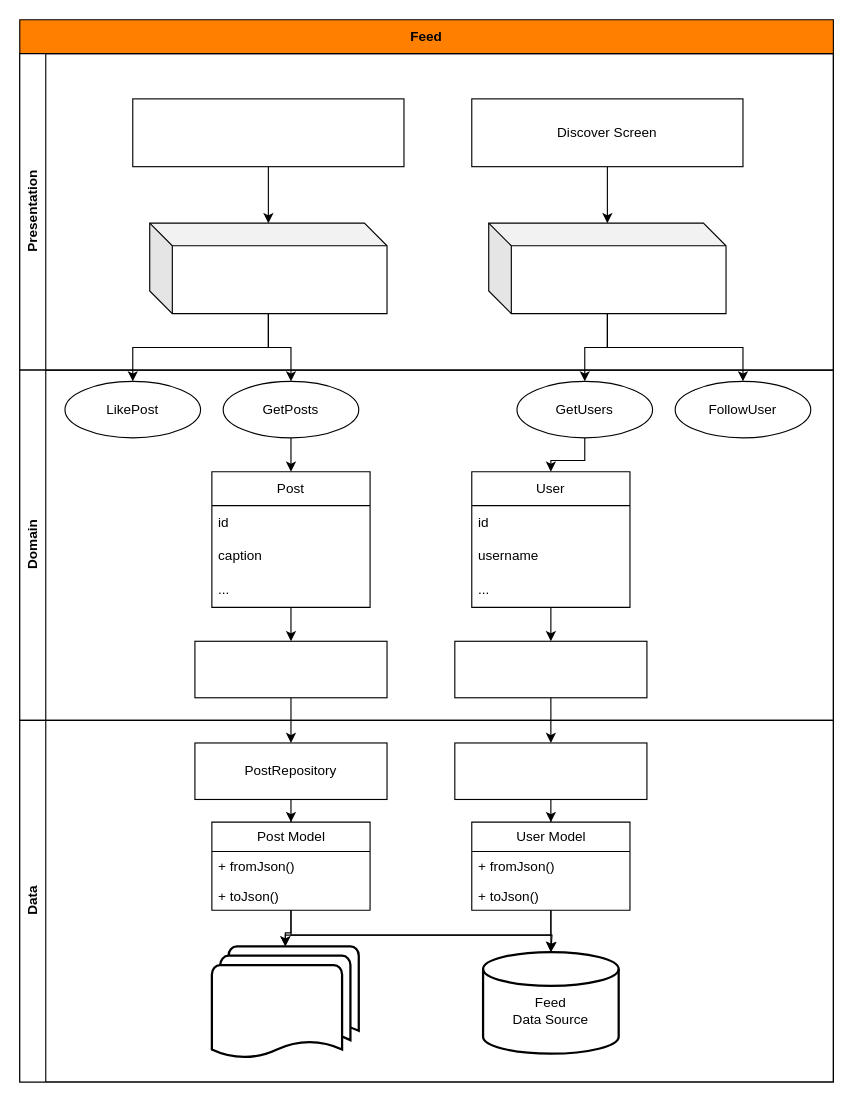
Image size: 853x1102. Some labels were removed from this diagram. The shapes that lost their labels are listed below. From the top down, each one's centre as x and y in pixels, then its label:
point (268, 132): Feed Screen
point (268, 268): Feed BLoC
point (607, 268): Discover BLoC
point (290, 669): "Interface" IPostRepository
point (550, 669): "Interface" IUserRepository
point (550, 770): UserRepository
point (284, 1002): Hive Local Storage
